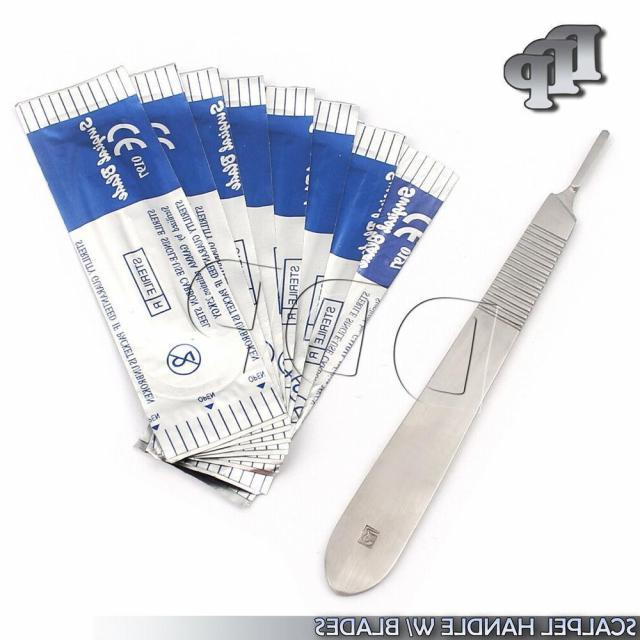Scalpel: (318, 124, 616, 602)
